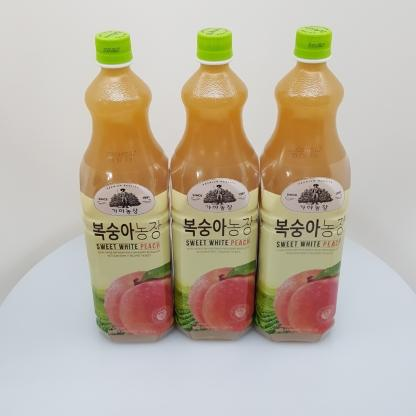-------1-5L: (254, 26, 351, 342), (79, 30, 176, 343), (169, 27, 259, 340)
